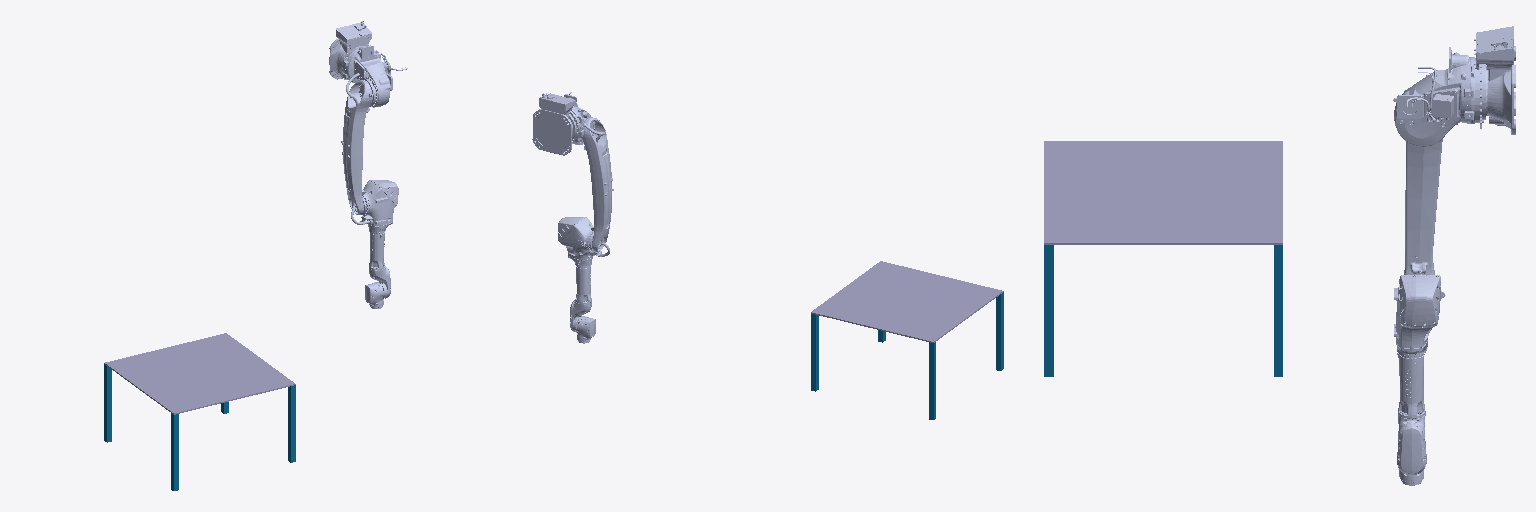
--- Render facts (derived) ---
The picture shows the robot from 3 angles, left to right: view 1: azimuth 30°, elevation 25°; view 2: azimuth 150°, elevation 25°; view 3: azimuth 270°, elevation 25°; orthographic projection.
Model kr_50_r2500_schunk_jpg_p_160 with 26 links and 25 joints (6 revolute, 3 prismatic, 16 fixed), rooted at world, posed all joints at 0.
Links seen in each view (by area): view 1: table_tabletop_link, kr_link2, kr_link1, kr_link3, kr_base_link, kr_link4, table_leg3_link, table_leg2_link, table_leg4_link; view 2: table_tabletop_link, kr_link2, kr_base_link, kr_link3, kr_link4, kr_link1, table_leg1_link, table_leg3_link, table_leg4_link; view 3: table_tabletop_link, kr_link1, kr_link2, kr_link3, kr_base_link, kr_link4, table_leg2_link, table_leg1_link.
Link boxes in pixels (x1,y1,x2,y2): table_tabletop_link: (104, 333, 295, 414); kr_link2: (341, 80, 372, 214); kr_link1: (342, 45, 407, 107); kr_link3: (351, 180, 398, 234); kr_base_link: (329, 21, 371, 79); kr_link4: (369, 232, 390, 298); table_leg3_link: (171, 413, 178, 490); table_leg2_link: (288, 385, 295, 462); table_leg4_link: (104, 364, 111, 442); table_tabletop_link: (811, 261, 1003, 342); kr_link2: (582, 117, 613, 251); kr_base_link: (532, 93, 575, 155); kr_link3: (558, 217, 609, 267); kr_link4: (570, 266, 591, 332); kr_link1: (564, 92, 604, 144); table_leg1_link: (811, 314, 818, 391); table_leg3_link: (996, 292, 1003, 370); table_leg4_link: (929, 342, 935, 419); table_tabletop_link: (1044, 141, 1282, 244); kr_link1: (1394, 47, 1487, 146); kr_link2: (1393, 88, 1442, 274); kr_link3: (1394, 274, 1445, 357); kr_base_link: (1474, 26, 1515, 134); kr_link4: (1397, 353, 1426, 474); table_leg2_link: (1044, 245, 1053, 376); table_leg1_link: (1274, 245, 1282, 376).
Size in the robot's own frame: 4.17 by 2.92 by 3.45 metres.
7 mesh visuals loaded from 16 distinct referenced files (7 binary STL); not drawn: 11 (reference not matched to a file when rendering).

robot.urdf — kr_50_r2500_schunk_jpg_p_160:
<?xml version="1.0" ?>
<!-- =================================================================================== -->
<!-- |    This document was autogenerated by xacro from [local-path]/projects/personal_ws/src/kr_50_r2500_environments/kr_50_r2500_schunk_jpg_p_160/kr_50_r2500_schunk_jpg_p_160_description/urdf/kr_50_r2500_schunk_jpg_p_160_rviz.xacro | -->
<!-- |    EDITING THIS FILE BY HAND IS NOT RECOMMENDED                                 | -->
<!-- =================================================================================== -->
<!-- <arg name="robot_name" default="kr_50_r2500_schunk_jpg_p_160"/> -->
<!-- It is required to pass the args: robot_name-->
<robot name="kr_50_r2500_schunk_jpg_p_160">
    <!--  100°/s -->
    <link concave="yes" name="structure_base_link">
        <inertial>
            <origin rpy="0 0 0" xyz="0.035817 -0.1978 -1.2121E-05" />
            <mass value="780.97" />
            <inertia ixx="25.789" ixy="-0.0076742" ixz="0.0023584" iyy="48.078" iyz="2.5193E-05" izz="33.648" />
        </inertial>
        <visual>
            <origin rpy="0 0 0" xyz="0 0 0" />
            <geometry>
                <mesh filename="package://kuka_battery_setup_description/meshes/struct_base_link.STL" scale="0.001 0.001 0.001" />
            </geometry>
            <material name="">
                <color rgba="1 0 0 1" />
            </material>
        </visual>
        <collision concave="yes">
            <origin rpy="0 0 0" xyz="0 0 0" />
            <geometry>
                <mesh filename="package://kuka_battery_setup_description/meshes/struct_base_link.STL" scale="0.001 0.001 0.001" />
            </geometry>
        </collision>
    </link>
    <link concave="yes" name="structure_link_1">
        <inertial>
            <origin rpy="0 0 0" xyz="-0.28012 0.38938 0.024882" />
            <mass value="660.35" />
            <inertia ixx="38.274" ixy="9.9756" ixz="-0.5181" iyy="36.77" iyz="0.16531" izz="32.584" />
        </inertial>
        <visual>
            <origin rpy="0 0 0" xyz="0 0 0" />
            <geometry>
                <mesh filename="package://kuka_battery_setup_description/meshes/link_1.STL" scale="0.001 0.001 0.001" />
            </geometry>
            <material name="">
                <color rgba="1 0 0 1" />
            </material>
        </visual>
        <collision concave="yes">
            <origin rpy="0 0 0" xyz="0 0 0" />
            <geometry>
                <mesh filename="package://kuka_battery_setup_description/meshes/link_1.STL" scale="0.001 0.001 0.001" />
            </geometry>
        </collision>
    </link>
    <joint name="structure_joint_1" type="prismatic">
        <origin rpy="0 0 0" xyz="2.750 0.215 2.720" />
        <parent link="structure_base_link" />
        <child link="structure_link_1" />
        <axis xyz="-1 0 0" />
        <limit effort="100000" lower="0" upper="3.0" velocity="1.74533" />
    </joint>
    <transmission name="structure_tran_1">
        <type>transmission_interface/SimpleTransmission</type>
        <joint name="structure_joint_1">
            <hardwareInterface>hardware_interface/EffortJointInterface</hardwareInterface>
        </joint>
        <actuator name="structure_motor_1">
            <mechanicalReduction>1</mechanicalReduction>
            <hardwareInterface>hardware_interface/EffortJointInterface</hardwareInterface>
        </actuator>
    </transmission>
    <!-- -350° -->
    <!--  360°/s -->
    <link concave="yes" name="kr_base_link">
        <inertial>
            <origin rpy="0 0 0" xyz="-0.080585 0.00067592 0.086754" />
            <mass value="30.385" />
            <inertia ixx="0.38941" ixy="0.0047083" ixz="0.060696" iyy="0.87424" iyz="-0.00029206" izz="1.0819" />
        </inertial>
        <visual>
            <origin rpy="0 0 0" xyz="0 0 0" />
            <geometry>
                <mesh filename="package://kr_50_r2500_description/meshes/base_link.STL" />
            </geometry>
            <material name="">
                <color rgba="0.79216 0.81961 0.93333 1" />
            </material>
        </visual>
        <collision concave="yes">
            <origin rpy="0 0 0" xyz="0 0 0" />
            <geometry>
                <mesh filename="package://kr_50_r2500_description/meshes/base_link.STL" />
            </geometry>
        </collision>
    </link>
    <link concave="yes" name="kr_link1">
        <inertial>
            <origin rpy="0 0 0" xyz="0.0600446329714386 0.0116665626627102 0.247062352627269" />
            <mass value="56.0953515273858" />
            <inertia ixx="1.7123503270672" ixy="0.020886843872196" ixz="-0.525246219592262" iyy="2.15349859010488" iyz="-0.031415061955379" izz="1.31690706549715" />
        </inertial>
        <visual>
            <origin rpy="0 0 0" xyz="0 0 0" />
            <geometry>
                <mesh filename="package://kr_50_r2500_description/meshes/link1.STL" />
            </geometry>
            <material name="">
                <color rgba="0.792156862745098 0.819607843137255 0.933333333333333 1" />
            </material>
        </visual>
        <collision concave="yes">
            <origin rpy="0 0 0" xyz="0 0 0" />
            <geometry>
                <mesh filename="package://kr_50_r2500_description/meshes/link1.STL" />
            </geometry>
        </collision>
    </link>
    <joint name="kr_joint1" type="revolute">
        <origin rpy="1.5708 0.009141 0" xyz="0 -0.17 0" />
        <parent link="kr_base_link" />
        <child link="kr_link1" />
        <axis xyz="0 0 -1" />
        <limit effort="10000" lower="-3.22886" upper="3.22886" velocity="3.05433" />
    </joint>
    <link concave="yes" name="kr_link2">
        <inertial>
            <origin rpy="0 0 0" xyz="0.0040251350126134 -0.177497207044946 0.578963319749875" />
            <mass value="35.5942562362571" />
            <inertia ixx="4.47662495992728" ixy="-0.00203441583192867" ixz="0.0769841500591921" iyy="4.49958249588231" iyz="0.214283202316168" izz="0.238618624180958" />
        </inertial>
        <visual>
            <origin rpy="0 0 0" xyz="0 0 0" />
            <geometry>
                <mesh filename="package://kr_50_r2500_description/meshes/link2.STL" />
            </geometry>
            <material name="">
                <color rgba="0.792156862745098 0.819607843137255 0.933333333333333 1" />
            </material>
        </visual>
        <collision concave="yes">
            <origin rpy="0 0 0" xyz="0 0 0" />
            <geometry>
                <mesh filename="package://kr_50_r2500_description/meshes/link2.STL" />
            </geometry>
        </collision>
    </link>
    <joint name="kr_joint2" type="revolute">
        <origin rpy="0 1.557055  0" xyz="0.175 -0.074807 0.405" />
        <parent link="kr_link1" />
        <child link="kr_link2" />
        <axis xyz="0 1 0" />
        <limit effort="10000" lower="-3.05433" upper="1.0472" velocity="2.75762" />
    </joint>
    <link concave="yes" name="kr_link3">
        <inertial>
            <origin rpy="0 0 0" xyz="0.0305175734183824 0.097105360534718 0.0162382856824868" />
            <mass value="36.6784876951283" />
            <inertia ixx="0.563908772434098" ixy="0.0648382829251099" ixz="-0.0822356915818992" iyy="0.7868662787778" iyz="0.00379928707270628" izz="1.01511384262152" />
        </inertial>
        <visual>
            <origin rpy="0 0 0" xyz="0 0 0" />
            <geometry>
                <mesh filename="package://kr_50_r2500_description/meshes/link3.STL" />
            </geometry>
            <material name="">
                <color rgba="0.792156862745098 0.819607843137255 0.933333333333333 1" />
            </material>
        </visual>
        <collision concave="yes">
            <origin rpy="0 0 0" xyz="0 0 0" />
            <geometry>
                <mesh filename="package://kr_50_r2500_description/meshes/link3.STL" />
            </geometry>
        </collision>
    </link>
    <joint name="kr_joint3" type="revolute">
        <origin rpy="0 -1.557055 0" xyz="0 0 1.29" />
        <parent link="kr_link2" />
        <child link="kr_link3" />
        <axis xyz="0 1 0" />
        <limit effort="10000" lower="-2.0944" upper="2.96706" velocity="3.05433" />
    </joint>
    <link concave="yes" name="kr_link4">
        <inertial>
            <origin rpy="0 0 0" xyz="0.400085577392824 0.0280533450779974 -6.01461215805621E-05" />
            <mass value="15.1542881051753" />
            <inertia ixx="0.0701060691297577" ixy="-0.0990093812478981" ixz="0.00018489912158269" iyy="0.729933929975417" iyz="-2.55452640777306E-05" izz="0.748398699396793" />
        </inertial>
        <visual>
            <origin rpy="0 0 0" xyz="0 0 0" />
            <geometry>
                <mesh filename="package://kr_50_r2500_description/meshes/link4.STL" />
            </geometry>
            <material name="">
                <color rgba="0.792156862745098 0.819607843137255 0.933333333333333 1" />
            </material>
        </visual>
        <collision concave="yes">
            <origin rpy="0 0 0" xyz="0 0 0" />
            <geometry>
                <mesh filename="package://kr_50_r2500_description/meshes/link4.STL" />
            </geometry>
        </collision>
    </link>
    <joint name="kr_joint4" type="revolute">
        <origin rpy="0 0 0" xyz="0.32687 0.074807 0.05" />
        <parent link="kr_link3" />
        <child link="kr_link4" />
        <axis xyz="1 0 0" />
        <limit effort="10000" lower="-3.14159" upper="3.14159" velocity="4.36332" />
    </joint>
    <link concave="yes" name="kr_link5">
        <inertial>
            <origin rpy="0 0 0" xyz="0.0348166227286741 -0.0333672873060013 -7.86869120463773E-05" />
            <mass value="5.17490767884354" />
            <inertia ixx="0.0198943557123769" ixy="-0.00379528838423929" ixz="-3.17734786601442E-05" iyy="0.0325404927644558" iyz="2.0392665049925E-05" izz="0.0334468145607699" />
        </inertial>
        <visual>
            <origin rpy="0 0 0" xyz="0 0 0" />
            <geometry>
                <mesh filename="package://kr_50_r2500_description/meshes/link5.STL" />
            </geometry>
            <material name="">
                <color rgba="0.792156862745098 0.819607843137255 0.933333333333333 1" />
            </material>
        </visual>
        <collision concave="yes">
            <origin rpy="0 0 0" xyz="0 0 0" />
            <geometry>
                <mesh filename="package://kr_50_r2500_description/meshes/link5.STL" />
            </geometry>
        </collision>
    </link>
    <joint name="kr_joint5" type="revolute">
        <origin rpy="0 -0.0 0" xyz="0.708131634616243 0 0" />
        <parent link="kr_link4" />
        <child link="kr_link5" />
        <axis xyz="0 1 0" />
        <limit effort="10000" lower="-2.18166" upper="2.18166" velocity="4.36332" />
    </joint>
    <link concave="yes" name="kr_link6">
        <inertial>
            <origin rpy="0 0 0" xyz="0.0697663509698883 -2.97159715269453E-06 -4.15148219581329E-05" />
            <mass value="0.362972835401582" />
            <inertia ixx="0.000809216081686161" ixy="9.97029573660496E-10" ixz="2.41841688721677E-07" iyy="0.000440777200154296" iyz="1.15745872636665E-07" izz="0.000441694717362902" />
        </inertial>
        <visual>
            <origin rpy="0 0 0" xyz="0 0 0" />
            <geometry>
                <mesh filename="package://kr_50_r2500_description/meshes/link6.STL" />
            </geometry>
            <material name="">
                <color rgba="0.792156862745098 0.819607843137255 0.933333333333333 1" />
            </material>
        </visual>
        <collision concave="yes">
            <origin rpy="0 0 0" xyz="0 0 0" />
            <geometry>
                <mesh filename="package://kr_50_r2500_description/meshes/link6.STL" />
            </geometry>
        </collision>
    </link>
    <joint name="kr_joint6" type="revolute">
        <origin rpy="0 0 0" xyz="0.0966663727881543 0 0" />
        <parent link="kr_link5" />
        <child link="kr_link6" />
        <axis xyz="1 0 0" />
        <limit effort="10000" lower="-6.10865" upper="6.10865" velocity="6.28319" />
    </joint>
    <joint name="kr_link6_to_flange" type="fixed">
        <origin rpy="0 1.57079632679 0" xyz="0.07 0 0" />
        <parent link="kr_link6" />
        <child link="kr_flange" />
    </joint>
    <link name="kr_flange">
        <inertial>
            <origin rpy="0 0 0" xyz="0 0 0" />
            <mass value="0.01" />
            <inertia ixx="0.0001" ixy="0.0000" ixz="0.0000" iyy="0.0001" iyz="0.0000" izz="0.0001" />
        </inertial>
    </link>
    <transmission name="kr_tran1">
        <type>transmission_interface/SimpleTransmission</type>
        <joint name="kr_joint1">
            <hardwareInterface>hardware_interface/EffortJointInterface</hardwareInterface>
        </joint>
        <actuator name="kr_motor1">
            <mechanicalReduction>1</mechanicalReduction>
            <hardwareInterface>hardware_interface/EffortJointInterface</hardwareInterface>
        </actuator>
    </transmission>
    <transmission name="kr_tran2">
        <type>transmission_interface/SimpleTransmission</type>
        <joint name="kr_joint2">
            <hardwareInterface>hardware_interface/EffortJointInterface</hardwareInterface>
        </joint>
        <actuator name="kr_motor2">
            <mechanicalReduction>1</mechanicalReduction>
            <hardwareInterface>hardware_interface/EffortJointInterface</hardwareInterface>
        </actuator>
    </transmission>
    <transmission name="kr_tran3">
        <type>transmission_interface/SimpleTransmission</type>
        <joint name="kr_joint3">
            <hardwareInterface>hardware_interface/EffortJointInterface</hardwareInterface>
        </joint>
        <actuator name="kr_motor3">
            <mechanicalReduction>1</mechanicalReduction>
            <hardwareInterface>hardware_interface/EffortJointInterface</hardwareInterface>
        </actuator>
    </transmission>
    <transmission name="kr_tran4">
        <type>transmission_interface/SimpleTransmission</type>
        <joint name="kr_joint4">
            <hardwareInterface>hardware_interface/EffortJointInterface</hardwareInterface>
        </joint>
        <actuator name="kr_motor4">
            <mechanicalReduction>1</mechanicalReduction>
            <hardwareInterface>hardware_interface/EffortJointInterface</hardwareInterface>
        </actuator>
    </transmission>
    <transmission name="kr_tran5">
        <type>transmission_interface/SimpleTransmission</type>
        <joint name="kr_joint5">
            <hardwareInterface>hardware_interface/EffortJointInterface</hardwareInterface>
        </joint>
        <actuator name="kr_motor5">
            <mechanicalReduction>1</mechanicalReduction>
            <hardwareInterface>hardware_interface/EffortJointInterface</hardwareInterface>
        </actuator>
    </transmission>
    <transmission name="kr_tran6">
        <type>transmission_interface/SimpleTransmission</type>
        <joint name="kr_joint6">
            <hardwareInterface>hardware_interface/EffortJointInterface</hardwareInterface>
        </joint>
        <actuator name="kr_motor6">
            <mechanicalReduction>1</mechanicalReduction>
            <hardwareInterface>hardware_interface/EffortJointInterface</hardwareInterface>
        </actuator>
    </transmission>
    <joint name="kuka_structure_to_kr_50_r2500" type="fixed">
        <origin rpy="0 1.5707963267948966 0" xyz="0.333 -0.035 0.325" />
        <parent link="structure_link_1" />
        <child link="kr_base_link" />
    </joint>
    <joint name="kr_robot_to_sensor_flange1" type="fixed">
        <origin rpy="0 0 1.5708" xyz="0 0 0" />
        <parent link="kr_flange" />
        <child link="kr_sensor_flange1" />
    </joint>
    <link name="kr_sensor_flange1">
        <inertial>
            <origin rpy="0 0 0" xyz="-0 0 0.0094" />
            <mass value="0.365" />
            <inertia ixx="0.00052332" ixy="0.00000000" ixz="0.00000000" iyy="0.00052259" iyz="0.00000002" izz="0.00094820" />
        </inertial>
        <visual>
            <origin rpy="0 0 0" xyz="0 0 0" />
            <geometry>
                <mesh filename="package://kr_50_r2500_schunk_jpg_p_160_description/meshes/sensor_flange_robot_side.STL" />
            </geometry>
            <material name="">
                <color rgba="0.792156862745098 0.819607843137255 0.933333333333333 1" />
            </material>
        </visual>
        <collision>
            <origin rpy="0 0 0" xyz="0 0 0" />
            <geometry>
                <mesh filename="package://kr_50_r2500_schunk_jpg_p_160_description/meshes/sensor_flange_robot_side.STL" />
            </geometry>
        </collision>
    </link>
    <joint name="kr_sensor_flange1_sensor_flange2" type="fixed">
        <origin rpy="0 0 0" xyz="0 0 0.02" />
        <parent link="kr_sensor_flange1" />
        <child link="kr_sensor_flange2" />
    </joint>
    <link name="kr_sensor_flange2">
        <inertial>
            <origin rpy="0 0 0" xyz="0 -0.00000241 0.01069809" />
            <mass value="0.337" />
            <inertia ixx="0.00052069" ixy="0.00000000" ixz="0.00000000" iyy="0.00052072" iyz="0.00000005" izz="0.00094051" />
        </inertial>
        <visual>
            <origin rpy="0 0 0" xyz="0 0 0" />
            <geometry>
                <mesh filename="package://kr_50_r2500_schunk_jpg_p_160_description/meshes/sensor_flange_sensor_side.STL" />
            </geometry>
            <material name="">
                <color rgba="0.792156862745098 0.819607843137255 0.933333333333333 1" />
            </material>
        </visual>
        <collision>
            <origin rpy="0 0 0" xyz="0 0 0" />
            <geometry>
                <mesh filename="package://kr_50_r2500_schunk_jpg_p_160_description/meshes/sensor_flange_sensor_side.STL" />
            </geometry>
        </collision>
    </link>
    <joint name="kr_sensor_flange2_to_sensor" type="fixed">
        <origin rpy="0 0 0" xyz="0 0 0.02" />
        <parent link="kr_sensor_flange2" />
        <child link="kr_sensor" />
    </joint>
    <link name="kr_sensor">
        <inertial>
            <origin rpy="0 0 0" xyz="0 -0.00008976 0.01514808" />
            <mass value="0.169" />
            <inertia ixx="0.00014141" ixy="0.00000000" ixz="0.00000000" iyy="0.00014192" iyz="-0.00000021" izz="0.00018592" />
        </inertial>
        <visual>
            <origin rpy="0 0 0" xyz="0 0 0" />
            <geometry>
                <mesh filename="package://kr_50_r2500_schunk_jpg_p_160_description/meshes/sensor.STL" />
            </geometry>
            <material name="">
                <color rgba="0.792156862745098 0.819607843137255 0.933333333333333 1" />
            </material>
        </visual>
        <collision>
            <origin rpy="0 0 0" xyz="0 0 0" />
            <geometry>
                <mesh filename="package://kr_50_r2500_schunk_jpg_p_160_description/meshes/sensor.STL" />
            </geometry>
        </collision>
    </link>
    <joint name="kr_sensor_to_gripper_flange" type="fixed">
        <origin rpy="0 0 0" xyz="0 0 0.0286" />
        <parent link="kr_sensor" />
        <child link="kr_gripper_flange" />
    </joint>
    <link name="kr_gripper_flange">
        <inertial>
            <origin rpy="0 0 0" xyz="0 0.00001675 0.00750175" />
            <mass value="0.12657298" />
            <inertia ixx="0.00006223" ixy="-0.00000035" ixz="0.00000000" iyy="0.00016947" iyz="-0.00000000" izz="0.00021258" />
        </inertial>
        <visual>
            <origin rpy="0 0 0" xyz="0 0 0" />
            <geometry>
                <mesh filename="package://kr_50_r2500_schunk_jpg_p_160_description/meshes/gripper_flange.STL" />
            </geometry>
            <material name="">
                <color rgba="0.792156862745098 0.819607843137255 0.933333333333333 1" />
            </material>
        </visual>
        <collision>
            <origin rpy="0 0 0" xyz="0 0 0" />
            <geometry>
                <mesh filename="package://kr_50_r2500_schunk_jpg_p_160_description/meshes/gripper_flange.STL" />
            </geometry>
        </collision>
    </link>
    <link concave="yes" name="gripper_gripper_base">
        <inertial>
            <origin rpy="0 0 0" xyz="0.00002849 -0.00022471 0.03657638" />
            <mass value="0.6818" />
            <inertia ixx="0.00154456" ixy="0.00000154" ixz="0.00000118" iyy="0.00283260" iyz="-0.00000405" izz="0.00195998" />
        </inertial>
        <visual>
            <origin rpy="0 0 0" xyz="0 0 0" />
            <geometry>
                <mesh filename="package://schunk_gripper_jpg_p_160_description/meshes/SCHUNK_parallel_gripper_base.STL" />
            </geometry>
            <material name="">
                <color rgba="0.79216 0.81961 0.93333 1" />
            </material>
        </visual>
        <collision concave="yes">
            <origin rpy="0 0 0" xyz="0 0 0" />
            <geometry>
                <mesh filename="package://schunk_gripper_jpg_p_160_description/meshes/SCHUNK_parallel_gripper_base.STL" />
            </geometry>
        </collision>
    </link>
    <joint name="gripper_left_joint" type="prismatic">
        <origin rpy="0 0 0" xyz="0.0006 0 0.0481" />
        <parent link="gripper_gripper_base" />
        <child link="gripper_left_slider" />
        <axis xyz="1 0 0" />
        <limit effort="100000" lower="0.000" upper="0.017" velocity="1000000" />
    </joint>
    <link concave="yes" name="gripper_left_slider">
        <inertial>
            <origin rpy="0 0 0" xyz="0.03936113 -0.00000000 0.01237203" />
            <mass value="0.070" />
            <inertia ixx="0.00002269" ixy="0.00000000" ixz="0.00003426" iyy="0.00015861" iyz="-0.00000000" izz="0.00015142" />
        </inertial>
        <visual>
            <origin rpy="0 0 0" xyz="0 0 0" />
            <geometry>
                <mesh filename="package://schunk_gripper_jpg_p_160_description/meshes/SCHUNK_parallel_gripper_finger_slider.STL" />
            </geometry>
            <material name="">
                <color rgba="0.79216 0.81961 0.93333 1" />
            </material>
        </visual>
        <collision concave="yes">
            <origin rpy="0 0 0" xyz="0 0 0" />
            <geometry>
                <mesh filename="package://schunk_gripper_jpg_p_160_description/meshes/SCHUNK_parallel_gripper_finger_slider.STL" />
            </geometry>
        </collision>
    </link>
    <joint name="gripper_right_joint" type="prismatic">
        <origin rpy="0 0 3.14159" xyz="-0.0006 0 0.0481" />
        <parent link="gripper_gripper_base" />
        <child link="gripper_right_slider" />
        <axis xyz="1 0 0" />
        <limit effort="100000" lower="0.000" upper="0.017" velocity="1000000" />
        <mimic joint="gripper_left_joint" multiplier="1" offset="0" />
    </joint>
    <link concave="yes" name="gripper_right_slider">
        <inertial>
            <origin rpy="0 0 0" xyz="0.03936113 -0.00000000 0.01237203" />
            <mass value="0.070" />
            <inertia ixx="0.00002269" ixy="0.00000000" ixz="0.00003426" iyy="0.00015861" iyz="-0.00000000" izz="0.00015142" />
        </inertial>
        <visual>
            <origin rpy="0 0 0" xyz="0 0 0" />
            <geometry>
                <mesh filename="package://schunk_gripper_jpg_p_160_description/meshes/SCHUNK_parallel_gripper_finger_slider.STL" />
            </geometry>
            <material name="">
                <color rgba="0.79216 0.81961 0.93333 1" />
            </material>
        </visual>
        <collision concave="yes">
            <origin rpy="0 0 0" xyz="0 0 0" />
            <geometry>
                <mesh filename="package://schunk_gripper_jpg_p_160_description/meshes/SCHUNK_parallel_gripper_finger_slider.STL" />
            </geometry>
        </collision>
    </link>
    <joint name="gripper_right_finger_joint" type="fixed">
        <origin rpy="0 0 3.14159" xyz="0.0285 0 0.0289" />
        <parent link="gripper_right_slider" />
        <child link="gripper_right_finger" />
        <axis xyz="0 0 0" />
    </joint>
    <link concave="yes" name="gripper_right_finger">
        <inertial>
            <origin rpy="0 0 0" xyz="-0.01665438 -0.00000438 0.05348249" />
            <mass value="0.10" />
            <inertia ixx="0.00041666" ixy="-0.00000001" ixz="-0.00005970" iyy="0.00047996" iyz="-0.00000004" izz="0.00007666" />
        </inertial>
        <visual>
            <origin rpy="0 0 0" xyz="0 0 0" />
            <geometry>
                <mesh filename="package://schunk_gripper_jpg_p_160_description/meshes/Finger.STL" />
            </geometry>
            <material name="">
                <color rgba="0.79216 0.81961 0.93333 1" />
            </material>
        </visual>
        <collision concave="yes">
            <origin rpy="0 0 0" xyz="0 0 0" />
            <geometry>
                <mesh filename="package://schunk_gripper_jpg_p_160_description/meshes/Finger.STL" />
            </geometry>
        </collision>
    </link>
    <joint name="gripper_left_finger_joint" type="fixed">
        <origin rpy="0 0 3.14159" xyz="0.0285 0 0.0289" />
        <parent link="gripper_left_slider" />
        <child link="gripper_left_finger" />
        <axis xyz="0 0 0" />
    </joint>
    <link concave="yes" name="gripper_left_finger">
        <inertial>
            <origin rpy="0 0 0" xyz="-0.01665438 -0.00000438 0.05348249" />
            <mass value="0.10" />
            <inertia ixx="0.00041666" ixy="-0.00000001" ixz="-0.00005970" iyy="0.00047996" iyz="-0.00000004" izz="0.00007666" />
        </inertial>
        <visual>
            <origin rpy="0 0 0" xyz="0 0 0" />
            <geometry>
                <mesh filename="package://schunk_gripper_jpg_p_160_description/meshes/Finger.STL" />
            </geometry>
            <material name="">
                <color rgba="0.79216 0.81961 0.93333 1" />
            </material>
        </visual>
        <collision concave="yes">
            <origin rpy="0 0 0" xyz="0 0 0" />
            <geometry>
                <mesh filename="package://schunk_gripper_jpg_p_160_description/meshes/Finger.STL" />
            </geometry>
        </collision>
    </link>
    <transmission name="gripper_left_joint_trans">
        <type>transmission_interface/SimpleTransmission</type>
        <joint name="gripper_left_joint">
            <hardwareInterface>hardware_interface/EffortJointInterface</hardwareInterface>
        </joint>
        <actuator name="gripper_left_joint_motor">
            <mechanicalReduction>1</mechanicalReduction>
            <hardwareInterface>hardware_interface/EffortJointInterface</hardwareInterface>
        </actuator>
    </transmission>
    <transmission name="gripper_right_joint_trans">
        <type>transmission_interface/SimpleTransmission</type>
        <joint name="gripper_right_joint">
            <hardwareInterface>hardware_interface/EffortJointInterface</hardwareInterface>
        </joint>
        <actuator name="gripper_right_joint_motor">
            <mechanicalReduction>1</mechanicalReduction>
            <hardwareInterface>hardware_interface/EffortJointInterface</hardwareInterface>
        </actuator>
    </transmission>
    <joint name="gripper_joint" type="fixed">
        <origin rpy="0 0 0" xyz="0 0 0.015" />
        <parent link="kr_gripper_flange" />
        <child link="gripper_gripper_base" />
    </joint>
    <joint name="table_fixed" type="fixed">
        <origin rpy="0 0 0" xyz="0 -2.0 0" />
        <parent link="structure_base_link" />
        <child link="table_base_link" />
    </joint>
    <link name="table_base_link">
        <inertial>
            <origin rpy="0 0 0" xyz="0 0 0" />
            <mass value="0.0001" />
            <inertia ixx="0.00000001" ixy="0" ixz="0" iyy="0.00000001" iyz="0" izz="0.00000001" />
        </inertial>
    </link>
    <link name="table_leg1_link">
        <inertial>
            <origin rpy="0 0 0" xyz="0 0 0.45" />
            <mass value="9.573825" />
            <inertia ixx="0.649105335" ixy="0" ixz="0" iyy="0.649105335" iyz="0" izz="0.005744294999999999" />
        </inertial>
        <visual>
            <origin rpy="0 0 0" xyz="0 0 0.45" />
            <geometry>
                <box size="0.06 0.06 0.9" />
            </geometry>
            <material name="">
                <color rgba="0.1176 0.5059 0.6902 1" />
            </material>
        </visual>
        <collision>
            <origin rpy="0 0 0" xyz="0 0 0.45" />
            <geometry>
                <box size="0.06 0.06 0.9" />
            </geometry>
        </collision>
    </link>
    <joint name="table_base_to_leg1" type="fixed">
        <origin rpy="0 0 0" xyz="0.72 0.71 0" />
        <parent link="table_base_link" />
        <child link="table_leg1_link" />
    </joint>
    <link name="table_leg2_link">
        <inertial>
            <origin rpy="0 0 0" xyz="0 0 0.45" />
            <mass value="9.573825" />
            <inertia ixx="0.649105335" ixy="0" ixz="0" iyy="0.649105335" iyz="0" izz="0.005744294999999999" />
        </inertial>
        <visual>
            <origin rpy="0 0 0" xyz="0 0 0.45" />
            <geometry>
                <box size="0.06 0.06 0.9" />
            </geometry>
            <material name="">
                <color rgba="0.1176 0.5059 0.6902 1" />
            </material>
        </visual>
        <collision>
            <origin rpy="0 0 0" xyz="0 0 0.45" />
            <geometry>
                <box size="0.06 0.06 0.9" />
            </geometry>
        </collision>
    </link>
    <joint name="table_base_to_leg2" type="fixed">
        <origin rpy="0 0 0" xyz="0.72 -0.71 0" />
        <parent link="table_base_link" />
        <child link="table_leg2_link" />
    </joint>
    <link name="table_leg3_link">
        <inertial>
            <origin rpy="0 0 0" xyz="0 0 0.45" />
            <mass value="9.573825" />
            <inertia ixx="0.649105335" ixy="0" ixz="0" iyy="0.649105335" iyz="0" izz="0.005744294999999999" />
        </inertial>
        <visual>
            <origin rpy="0 0 0" xyz="0 0 0.45" />
            <geometry>
                <box size="0.06 0.06 0.9" />
            </geometry>
            <material name="">
                <color rgba="0.1176 0.5059 0.6902 1" />
            </material>
        </visual>
        <collision>
            <origin rpy="0 0 0" xyz="0 0 0.45" />
            <geometry>
                <box size="0.06 0.06 0.9" />
            </geometry>
        </collision>
    </link>
    <joint name="table_base_to_leg3" type="fixed">
        <origin rpy="0 0 0" xyz="-0.72 -0.71 0" />
        <parent link="table_base_link" />
        <child link="table_leg3_link" />
    </joint>
    <link name="table_leg4_link">
        <inertial>
            <origin rpy="0 0 0" xyz="0 0 0.45" />
            <mass value="9.573825" />
            <inertia ixx="0.649105335" ixy="0" ixz="0" iyy="0.649105335" iyz="0" izz="0.005744294999999999" />
        </inertial>
        <visual>
            <origin rpy="0 0 0" xyz="0 0 0.45" />
            <geometry>
                <box size="0.06 0.06 0.9" />
            </geometry>
            <material name="">
                <color rgba="0.1176 0.5059 0.6902 1" />
            </material>
        </visual>
        <collision>
            <origin rpy="0 0 0" xyz="0 0 0.45" />
            <geometry>
                <box size="0.06 0.06 0.9" />
            </geometry>
        </collision>
    </link>
    <joint name="table_base_to_leg4" type="fixed">
        <origin rpy="0 0 0" xyz="-0.72 0.71 0" />
        <parent link="table_base_link" />
        <child link="table_leg4_link" />
    </joint>
    <link name="table_tabletop_link">
        <inertial>
            <origin rpy="0 0 0" xyz="0 0 0.0075" />
            <mass value="9.573825" />
            <inertia ixx="47.774738203125" ixy="0" ixz="0" iyy="49.074538213124995" iyz="0" izz="96.83946249" />
        </inertial>
        <visual>
            <origin rpy="0 0 0" xyz="0 0 0.0075" />
            <geometry>
                <box size="1.5 1.48 0.015" />
            </geometry>
            <material name="">
                <color rgba="0.6608 0.6608 0.7878 1" />
            </material>
        </visual>
        <collision>
            <origin rpy="0 0 0" xyz="0 0 0.0075" />
            <geometry>
                <box size="1.5 1.48 0.015" />
            </geometry>
        </collision>
    </link>
    <joint name="table_base_to_tabletop" type="fixed">
        <origin rpy="0 0 0" xyz="0 0 0.9" />
        <parent link="table_base_link" />
        <child link="table_tabletop_link" />
    </joint>
    <link name="world" />
    <joint name="world_to_base_link" type="fixed">
        <origin rpy="0 0 0" xyz="0 0 0" />
        <parent link="world" />
        <child link="structure_base_link" />
    </joint>
    <gazebo>
        <plugin name="gazebo_ros_control">
            <robotNamespace>/</robotNamespace>
        </plugin>
    </gazebo>
</robot>
